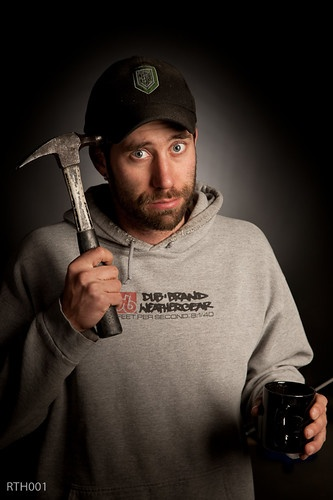hammer: (20, 132, 112, 245)
